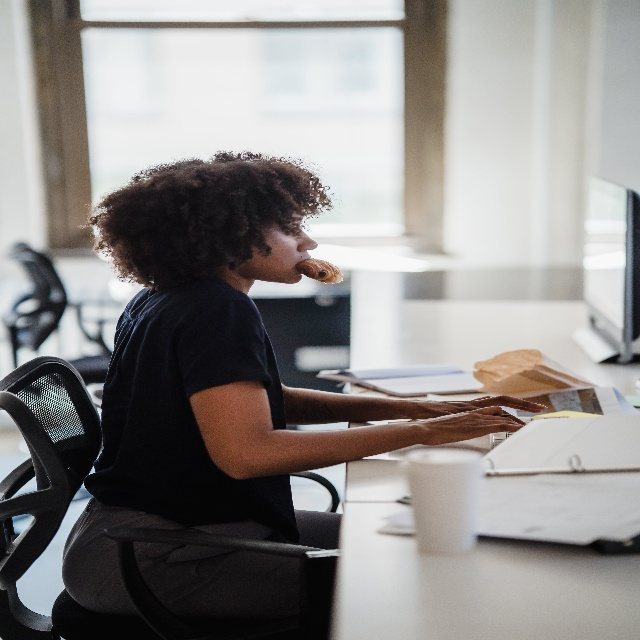Sin_guantes: (416, 406, 524, 448), (412, 395, 548, 426)
